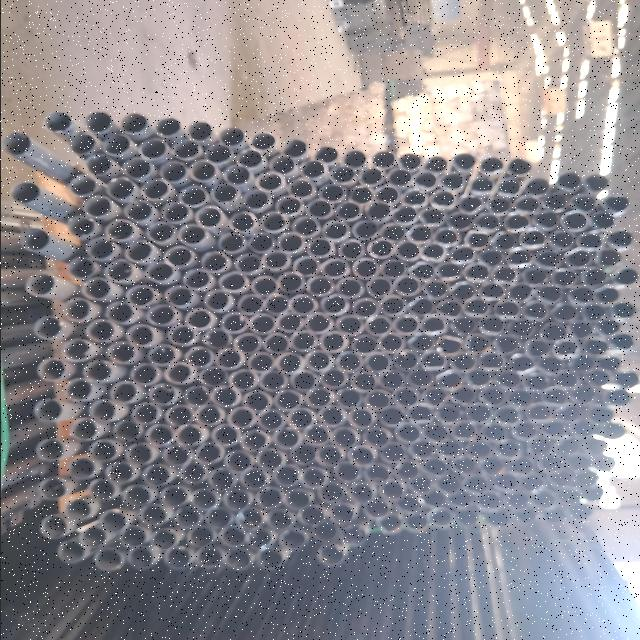pipe: (34, 438, 67, 462), (18, 227, 51, 251), (62, 338, 92, 363), (94, 510, 128, 532), (65, 458, 99, 480), (104, 460, 135, 484), (193, 205, 224, 229), (34, 359, 67, 381), (164, 548, 194, 572), (93, 548, 123, 572), (56, 540, 86, 564), (106, 341, 136, 365), (33, 316, 63, 340), (85, 319, 116, 342), (193, 442, 225, 464), (103, 220, 135, 242), (66, 214, 95, 238), (252, 488, 285, 509), (238, 468, 268, 491), (112, 419, 142, 442), (68, 418, 98, 441), (32, 399, 62, 422), (108, 382, 138, 405), (215, 348, 245, 371), (146, 344, 176, 367), (178, 185, 208, 208), (10, 182, 40, 205), (122, 157, 152, 180), (122, 200, 153, 222), (41, 516, 69, 540), (285, 408, 313, 432), (126, 324, 154, 348), (63, 297, 91, 321), (2, 132, 30, 156), (188, 158, 216, 182), (67, 175, 96, 198), (276, 530, 306, 552), (222, 548, 252, 570), (195, 546, 225, 568), (126, 548, 156, 570), (138, 504, 168, 526), (158, 486, 188, 508), (122, 486, 152, 508), (586, 404, 616, 426), (130, 402, 160, 424), (86, 400, 116, 422), (164, 362, 194, 384), (26, 274, 56, 296), (164, 246, 194, 268), (124, 240, 154, 262), (84, 238, 114, 260), (104, 178, 134, 200), (254, 170, 284, 192), (170, 140, 200, 162), (101, 134, 131, 156), (227, 406, 254, 430), (316, 544, 344, 567), (235, 509, 263, 532), (38, 478, 66, 501), (189, 488, 217, 511), (126, 444, 154, 467), (305, 388, 333, 411), (83, 195, 111, 218), (68, 132, 96, 155), (158, 162, 187, 184), (282, 488, 312, 509), (222, 490, 252, 511), (226, 370, 256, 391), (482, 508, 510, 530), (340, 524, 368, 546), (256, 548, 284, 570), (120, 526, 148, 548), (331, 462, 359, 484), (180, 462, 208, 484), (162, 443, 190, 465), (448, 422, 476, 444), (302, 425, 330, 447), (241, 430, 269, 452), (212, 424, 240, 446), (144, 424, 172, 446), (318, 406, 346, 428), (256, 408, 284, 430), (165, 404, 193, 426), (64, 379, 92, 401), (147, 384, 175, 406), (132, 364, 160, 386), (203, 290, 231, 312), (184, 308, 212, 330), (147, 304, 175, 326), (106, 302, 134, 324), (127, 286, 155, 308), (319, 258, 347, 280), (104, 260, 132, 282), (518, 228, 546, 250), (229, 210, 257, 232), (162, 202, 190, 224), (138, 138, 166, 160), (84, 112, 112, 134), (42, 111, 70, 133), (66, 257, 95, 278), (203, 508, 233, 528), (82, 361, 112, 381), (198, 368, 228, 388), (164, 287, 194, 307), (217, 272, 247, 292), (177, 224, 207, 244), (187, 526, 214, 548), (78, 526, 105, 548), (207, 468, 234, 490), (419, 240, 446, 262), (246, 232, 273, 254), (568, 502, 596, 523), (89, 479, 117, 500), (174, 425, 202, 446), (334, 387, 362, 408), (202, 328, 230, 349), (337, 239, 365, 260), (306, 237, 334, 258), (146, 222, 174, 243), (260, 212, 288, 233), (142, 178, 170, 199), (154, 117, 182, 138), (210, 184, 239, 204), (376, 514, 402, 536), (66, 498, 92, 520), (490, 472, 516, 494), (346, 482, 372, 504), (143, 465, 169, 487), (196, 404, 222, 426), (422, 386, 448, 408), (212, 386, 238, 408), (290, 330, 316, 352), (552, 302, 578, 324), (352, 258, 378, 280), (532, 208, 558, 230), (494, 176, 520, 198), (187, 120, 213, 142), (144, 262, 174, 281), (433, 405, 460, 426), (389, 351, 416, 372), (167, 325, 194, 346), (560, 210, 587, 231), (218, 527, 246, 547), (297, 506, 325, 526), (172, 508, 200, 528), (494, 438, 522, 458), (273, 466, 301, 486), (89, 442, 117, 462), (224, 451, 252, 471), (364, 390, 392, 410), (182, 386, 210, 406), (288, 371, 316, 391), (184, 347, 212, 367), (260, 334, 288, 354), (407, 298, 435, 318), (580, 268, 608, 288), (434, 261, 462, 281), (420, 279, 448, 299), (334, 278, 362, 298), (200, 252, 228, 272), (445, 211, 473, 231), (290, 218, 318, 238), (274, 196, 302, 216), (242, 190, 270, 210), (504, 157, 532, 177), (280, 139, 308, 159), (222, 164, 250, 184), (248, 132, 276, 152), (120, 114, 148, 134), (393, 460, 418, 482), (318, 483, 343, 505), (393, 314, 418, 336), (379, 294, 404, 316), (290, 294, 315, 316), (394, 240, 419, 262), (266, 510, 292, 531), (315, 445, 341, 466), (306, 276, 332, 297), (310, 522, 337, 542), (150, 530, 177, 550), (327, 504, 354, 524), (602, 389, 632, 407), (347, 446, 374, 466), (523, 374, 550, 394), (464, 402, 491, 422), (348, 408, 375, 428), (406, 332, 433, 352), (221, 314, 248, 334), (82, 280, 109, 300), (462, 263, 489, 283), (234, 254, 261, 274), (217, 232, 244, 252), (472, 213, 499, 233), (321, 220, 348, 240), (334, 202, 361, 222), (236, 150, 263, 170), (409, 442, 437, 461), (362, 428, 390, 447), (274, 391, 302, 410), (320, 332, 348, 351), (485, 196, 513, 215), (582, 436, 606, 458), (438, 298, 462, 320), (464, 230, 488, 252), (364, 464, 389, 485), (378, 371, 403, 392), (538, 454, 564, 474), (508, 458, 534, 478), (528, 436, 554, 456), (465, 440, 491, 460), (300, 468, 326, 488), (544, 388, 570, 408), (407, 405, 433, 425), (448, 386, 474, 406), (435, 371, 461, 391), (418, 350, 444, 370), (276, 354, 302, 374), (524, 338, 550, 358), (436, 336, 462, 356), (233, 334, 259, 354), (540, 322, 566, 342), (462, 298, 488, 318), (568, 285, 594, 305), (365, 276, 391, 296), (278, 272, 304, 292), (292, 256, 318, 276), (262, 250, 288, 270), (250, 276, 276, 296), (594, 248, 620, 268), (606, 228, 632, 248), (564, 248, 590, 268), (534, 248, 560, 268), (506, 247, 532, 267), (448, 244, 474, 264), (367, 238, 393, 258), (276, 232, 302, 252), (502, 212, 528, 232), (390, 204, 416, 224), (352, 220, 378, 240), (602, 194, 628, 214), (522, 177, 548, 197), (513, 195, 539, 215), (428, 189, 454, 209), (286, 179, 312, 199), (218, 127, 244, 147), (86, 154, 112, 174), (290, 443, 317, 462), (274, 429, 301, 448), (466, 334, 489, 356), (598, 422, 626, 440), (450, 352, 474, 373), (407, 262, 435, 280), (181, 270, 209, 288), (378, 224, 406, 242), (568, 194, 596, 212), (513, 420, 538, 440), (509, 388, 534, 408), (482, 424, 507, 444), (396, 422, 421, 442), (331, 428, 356, 448), (494, 370, 519, 390), (379, 406, 404, 426), (392, 388, 417, 408), (244, 390, 269, 410), (406, 368, 431, 388), (449, 316, 474, 336), (336, 316, 361, 336), (352, 298, 377, 318), (551, 268, 576, 288), (479, 282, 504, 302), (380, 260, 405, 280), (433, 227, 458, 247), (541, 192, 566, 212), (478, 156, 503, 176), (374, 186, 399, 206), (358, 166, 383, 186), (512, 506, 538, 525), (454, 509, 480, 528), (525, 404, 551, 423), (349, 372, 375, 391), (304, 351, 330, 370), (576, 232, 602, 251), (556, 172, 582, 191), (394, 494, 421, 512), (424, 424, 451, 442), (479, 386, 506, 404), (319, 370, 346, 388), (521, 268, 548, 286), (385, 170, 412, 188), (478, 492, 502, 512), (438, 474, 462, 494), (422, 458, 446, 478), (380, 443, 404, 463), (554, 370, 578, 390), (478, 352, 502, 372), (260, 370, 284, 390), (336, 352, 360, 372), (584, 338, 608, 358), (553, 339, 577, 359), (508, 320, 532, 340), (495, 300, 519, 320), (478, 316, 502, 336), (307, 313, 331, 333), (278, 312, 302, 332), (264, 294, 288, 314), (451, 282, 475, 302), (404, 226, 432, 243), (466, 369, 491, 388), (322, 295, 347, 314), (245, 530, 271, 548), (554, 486, 580, 504), (420, 490, 446, 508), (363, 500, 389, 518), (508, 356, 534, 374), (494, 335, 520, 353), (612, 302, 638, 320), (578, 304, 604, 322), (522, 302, 548, 320), (594, 286, 620, 304), (507, 284, 533, 302), (392, 276, 418, 294), (548, 231, 574, 249), (490, 232, 516, 250), (305, 200, 331, 218), (582, 174, 608, 192), (370, 151, 396, 169), (328, 166, 354, 184), (318, 184, 344, 202), (300, 160, 326, 178), (268, 156, 294, 174), (204, 145, 230, 163), (614, 370, 637, 390), (378, 333, 401, 353), (429, 509, 453, 528), (479, 458, 503, 477), (378, 482, 402, 501), (584, 369, 608, 388), (556, 437, 580, 456), (248, 353, 272, 372), (352, 334, 376, 353), (364, 315, 388, 334), (536, 284, 560, 303), (541, 419, 566, 437), (567, 322, 592, 340), (237, 295, 262, 313), (412, 172, 437, 190), (397, 152, 422, 170), (612, 268, 640, 284), (462, 477, 488, 494), (256, 451, 282, 468), (567, 355, 593, 372), (491, 266, 517, 283), (549, 470, 571, 490), (452, 456, 474, 476), (592, 212, 614, 232), (404, 513, 428, 531), (496, 406, 520, 424), (537, 355, 561, 373), (365, 354, 389, 372), (422, 316, 446, 334), (250, 316, 274, 334), (478, 248, 502, 266), (365, 202, 389, 220), (452, 153, 476, 171), (439, 172, 463, 190), (342, 150, 366, 168), (436, 441, 461, 458), (418, 208, 443, 225), (520, 473, 542, 492), (570, 384, 592, 403), (556, 403, 578, 422), (608, 334, 634, 350), (422, 156, 448, 172), (458, 196, 482, 213), (348, 187, 372, 204), (594, 454, 616, 472), (567, 454, 589, 472), (470, 177, 492, 195), (505, 492, 529, 508), (596, 320, 620, 336), (314, 146, 338, 162), (534, 491, 554, 510), (409, 476, 430, 494), (544, 508, 564, 526), (450, 491, 474, 506), (574, 471, 598, 486), (571, 419, 591, 437), (598, 356, 620, 372), (578, 486, 603, 500)
